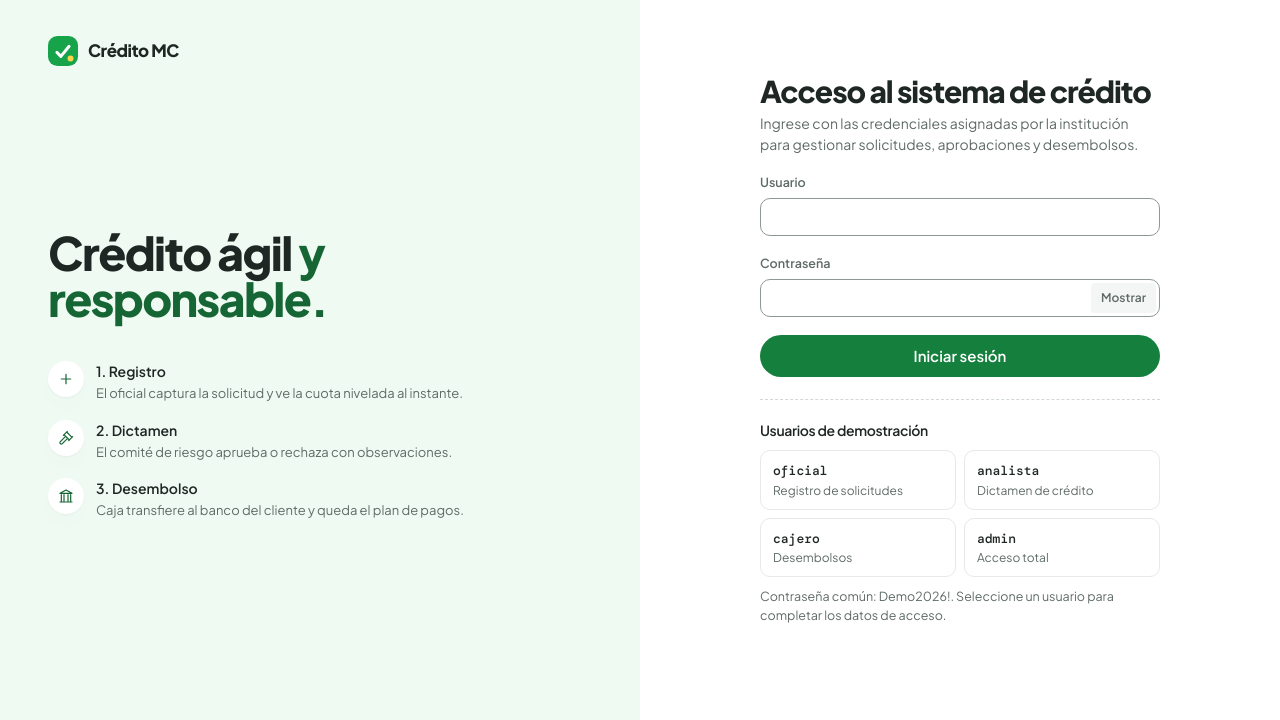
autenticación › sin sesión redirige al login y vuelve a la ruta pedida al entrar
The image size is (1280, 720).
Type "oficial" into the field labelled "Usuario" at (960, 217), box [760,198,1160,236]
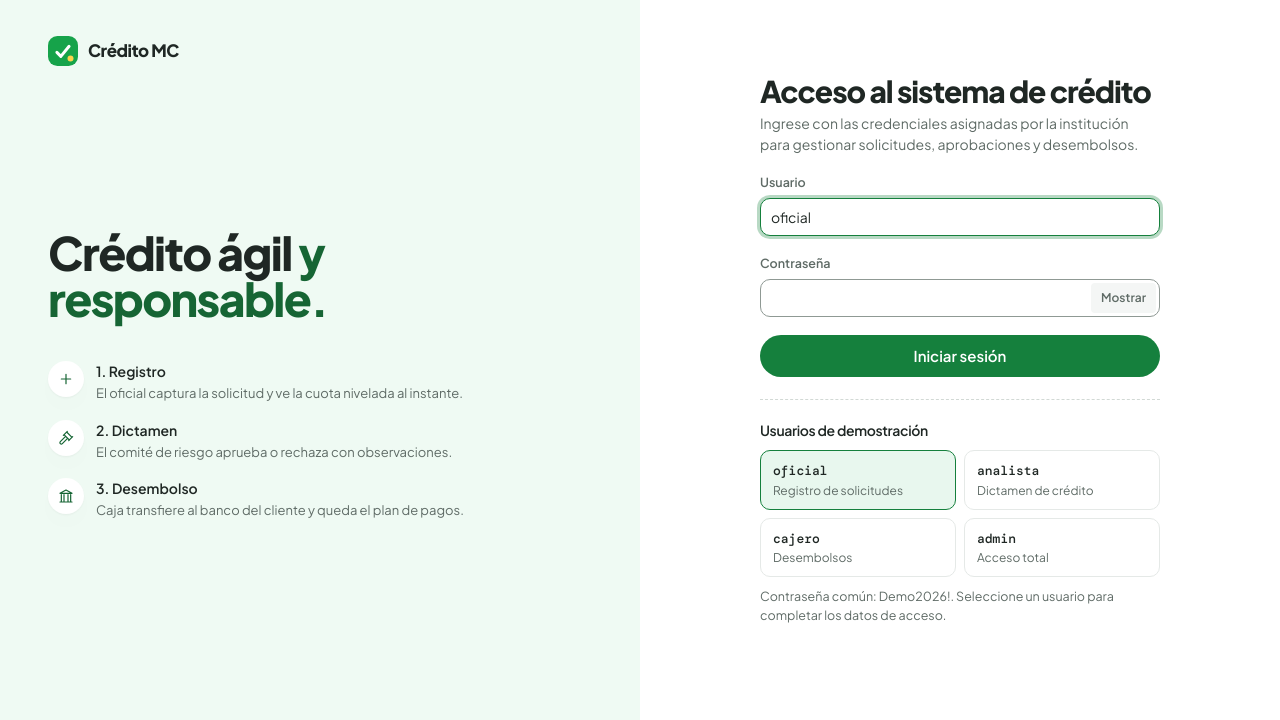
Type "Demo2026!" into the password field labelled "Contraseña" at (960, 298), box [760,279,1160,317]
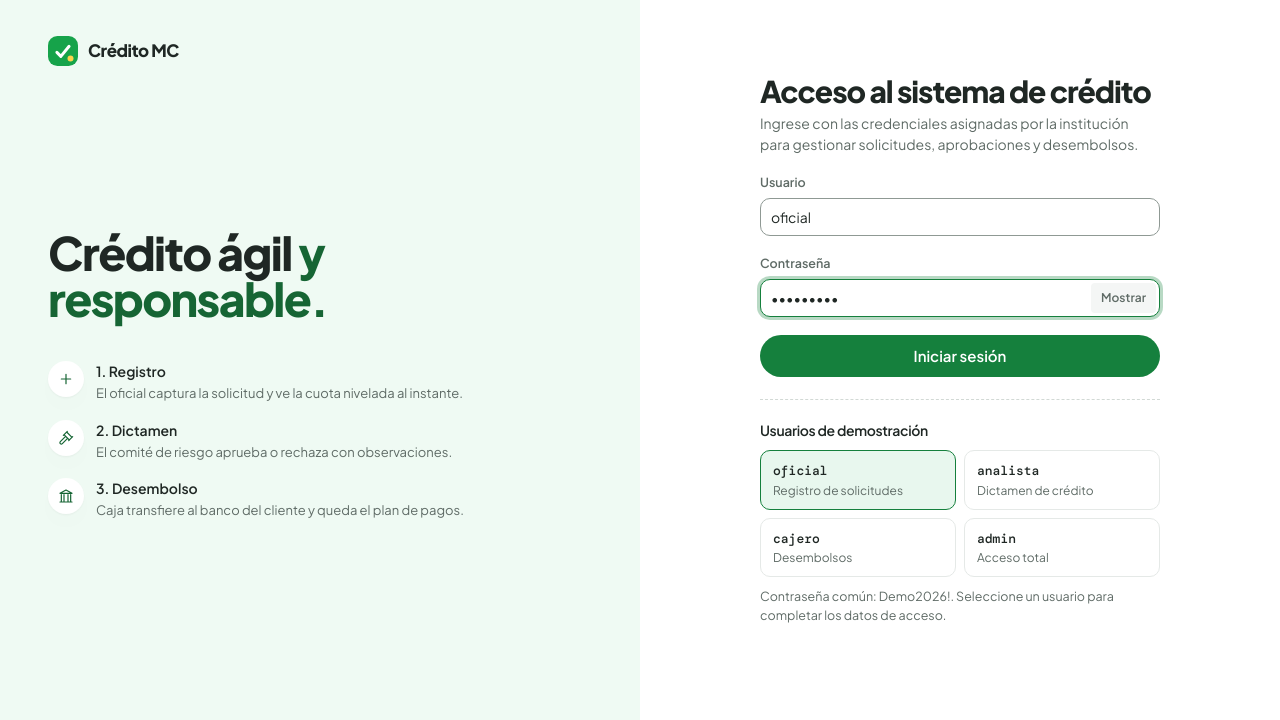
Click the button "Iniciar sesión" at (960, 356), box [760,335,1160,377]
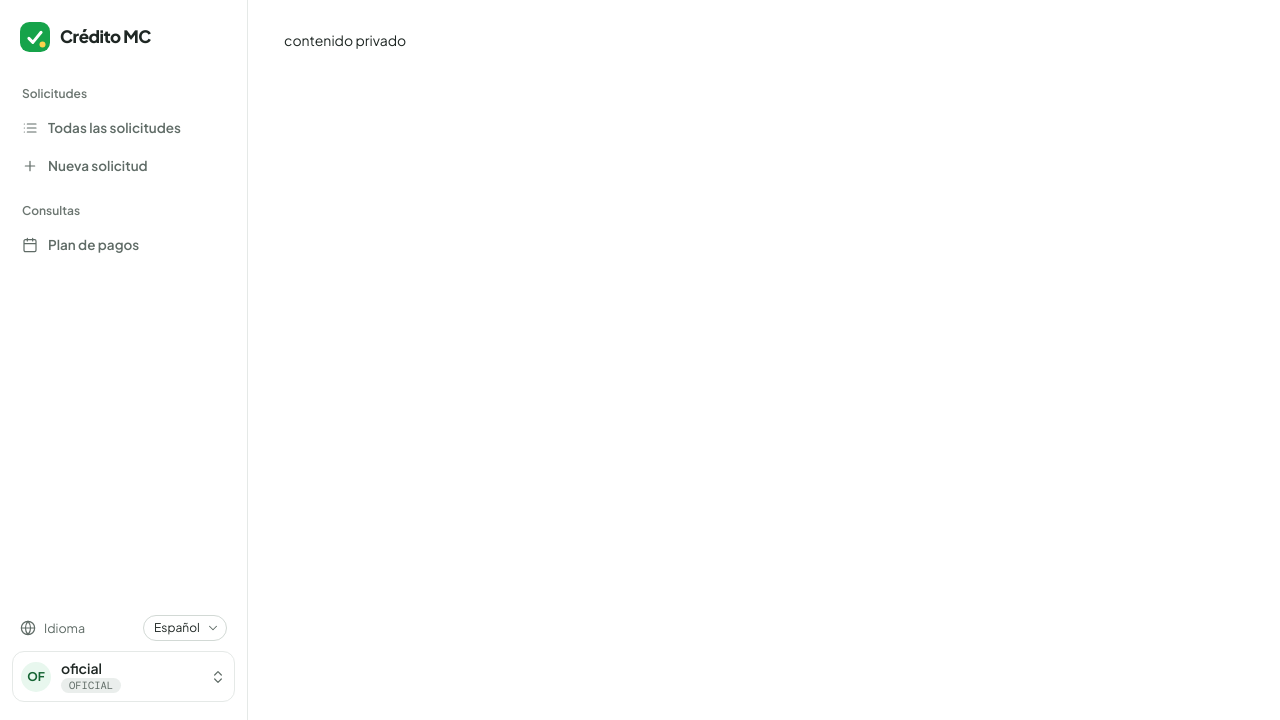
Check: the text "contenido privado" is shown, box [284,31,406,49]
